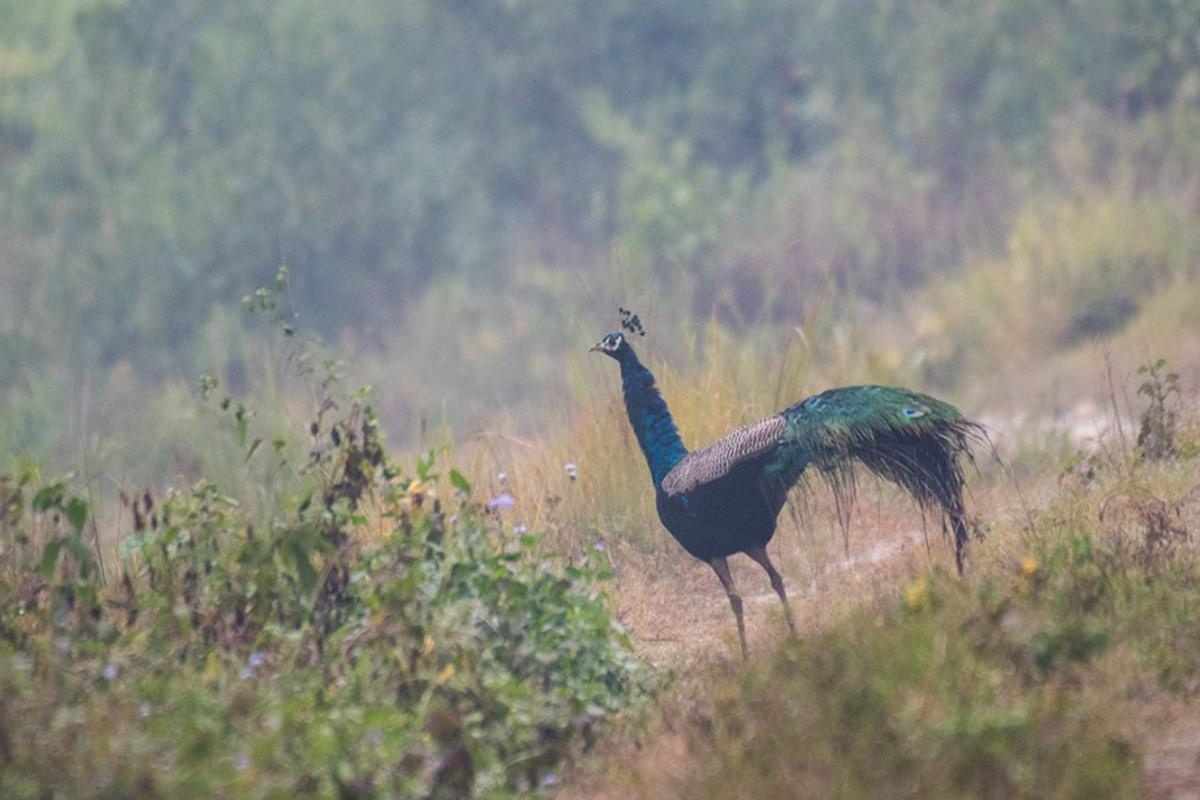peacock: (546, 305, 1018, 627)
